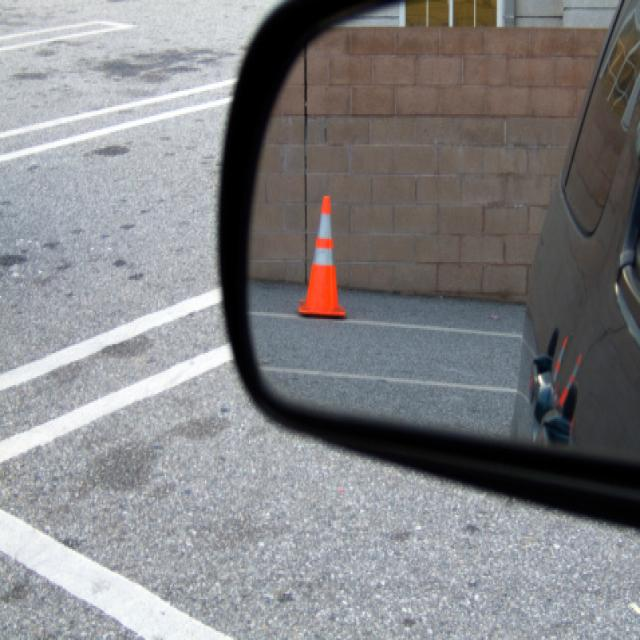cone: (279, 158, 359, 342)
